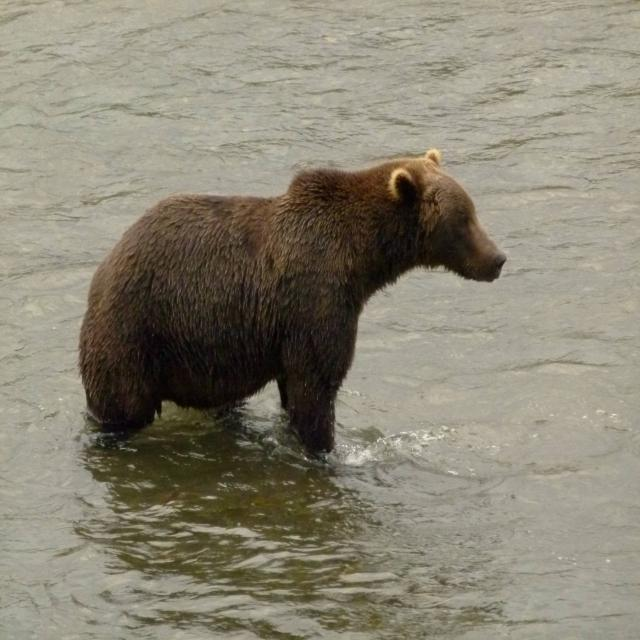bear face: (89, 152, 509, 436)
